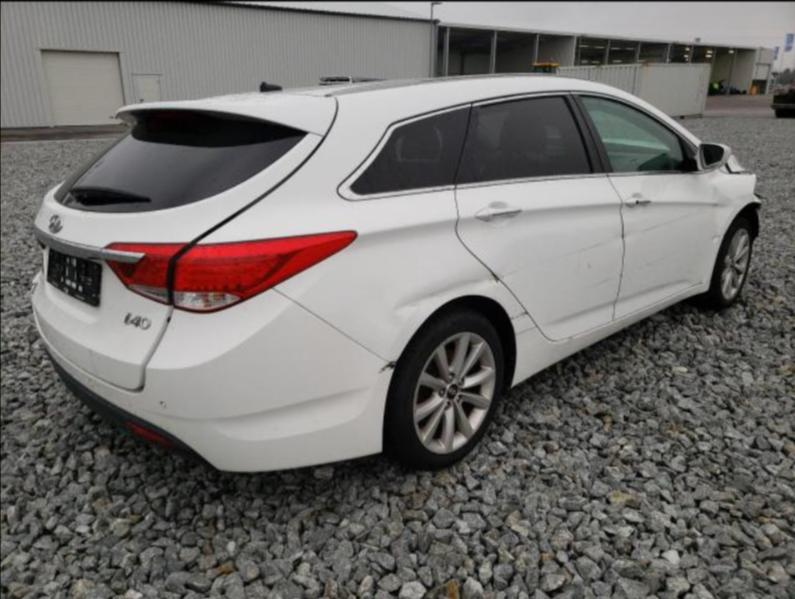Broken part: (718, 155, 763, 200)
Dent: (388, 279, 489, 316), (712, 187, 735, 228), (620, 221, 639, 241), (708, 230, 722, 242)
Paint chip: (377, 360, 396, 374), (491, 272, 501, 282)
Scratch: (639, 209, 701, 234), (593, 263, 648, 287), (636, 249, 686, 269), (561, 242, 605, 256), (575, 240, 610, 252), (515, 327, 538, 338), (510, 311, 529, 321), (499, 270, 517, 280), (567, 334, 573, 341), (588, 262, 593, 269)
